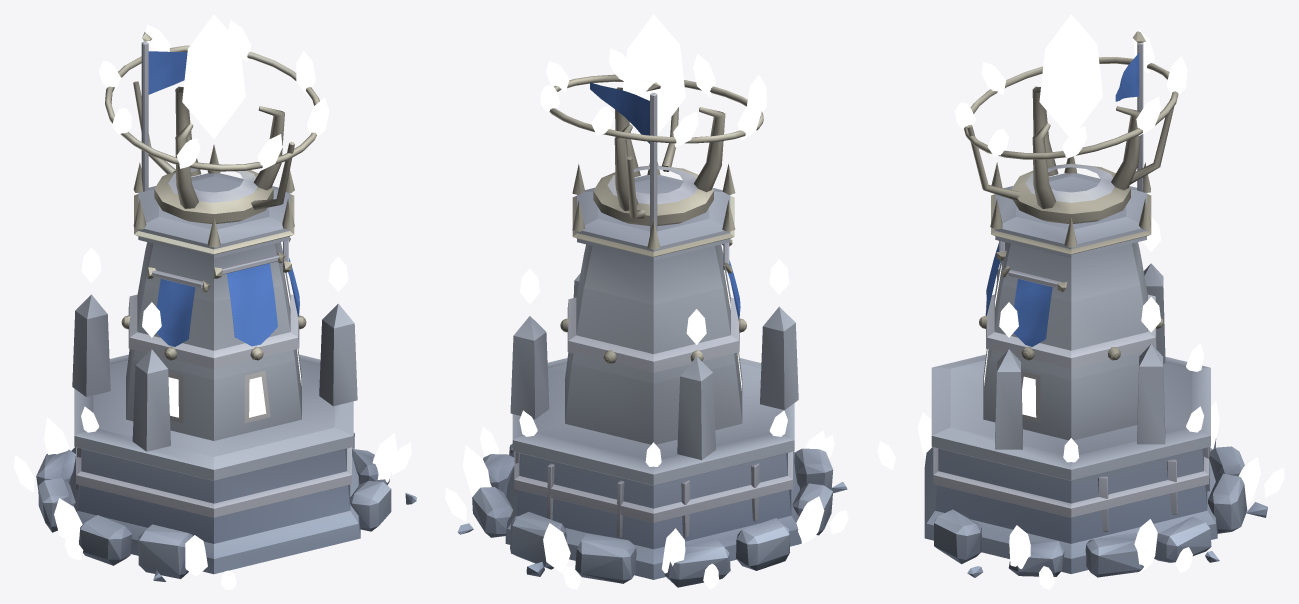
Rendered from frost_2_9.glb.
3 renders of one model, left to right at view 1: azimuth 30°, elevation 25°; view 2: azimuth 150°, elevation 25°; view 3: azimuth 270°, elevation 25°, orthographic.
Parts seen in each view (by area): view 1: Tower, Turret; view 2: Tower, Turret; view 3: Tower, Turret.
Boxes of the visible parts, x1,y1,x2,y2 form: Tower: (14, 32, 416, 589); Turret: (98, 14, 329, 223); Tower: (445, 82, 848, 589); Turret: (540, 14, 766, 225); Tower: (877, 31, 1284, 589); Turret: (955, 14, 1187, 223).
Bounding box in the file's own units: 4.1 × 5.53 × 4.09.
